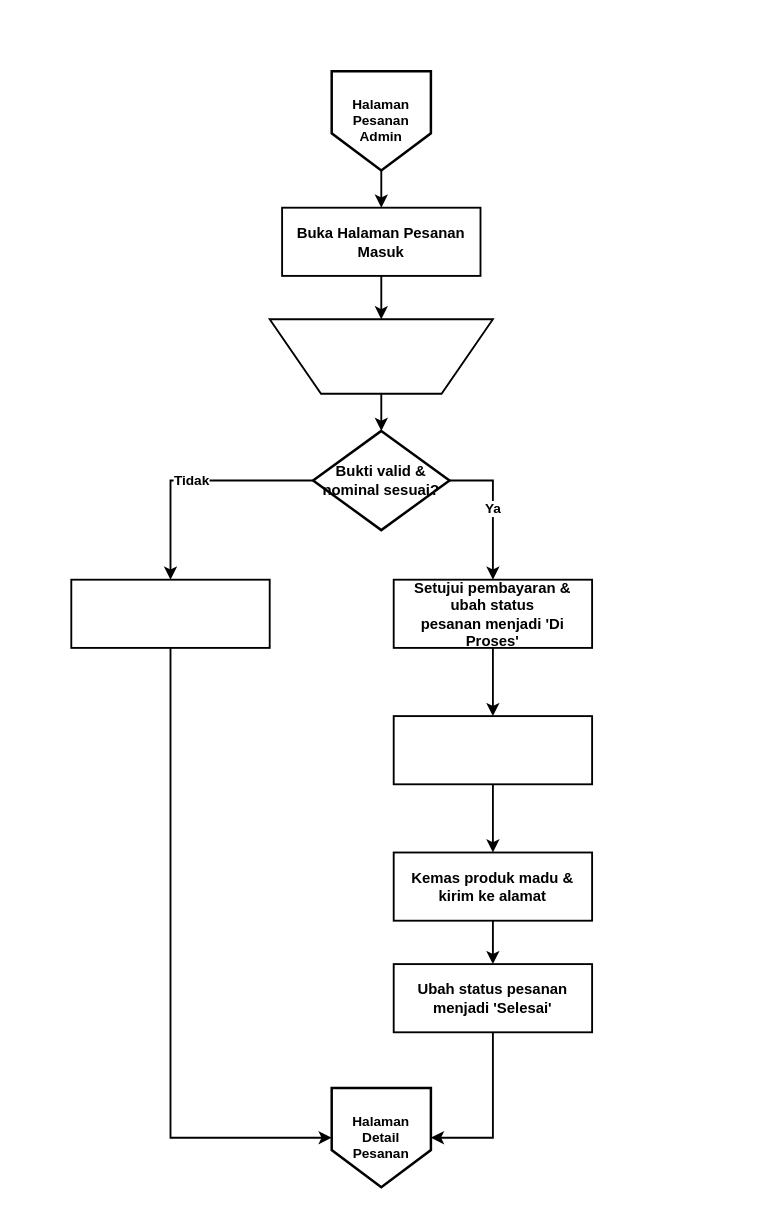
This 761x1220 diagram has some shape labels left out. Each missing label, with the centre of its shape:
"Kurangi stok produk secara otomatis di database" belongs at [492,750].
"Periksa gambar bukti transfer bank" belongs at [380,356].
"Tolak pembayaran & ubah status pesanan kembali ke 'Belum Bayar'" belongs at [170,613].
